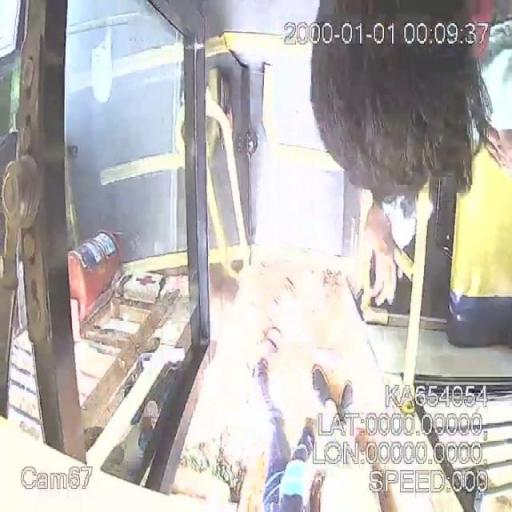persona: (308, 1, 510, 317), (251, 330, 362, 512)
